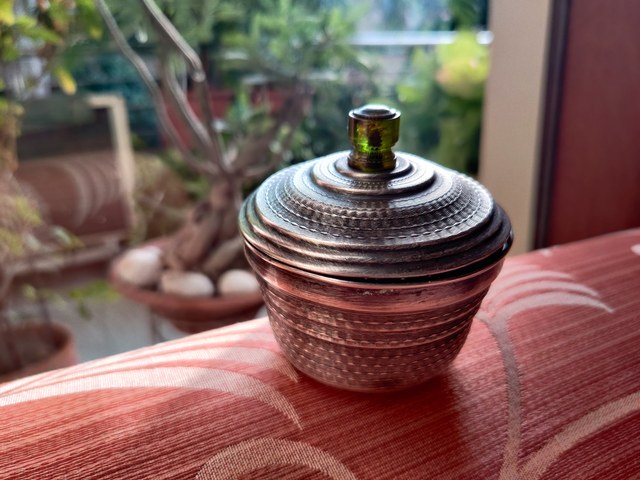Huggies Wonder Pants: (32, 24, 608, 456)
